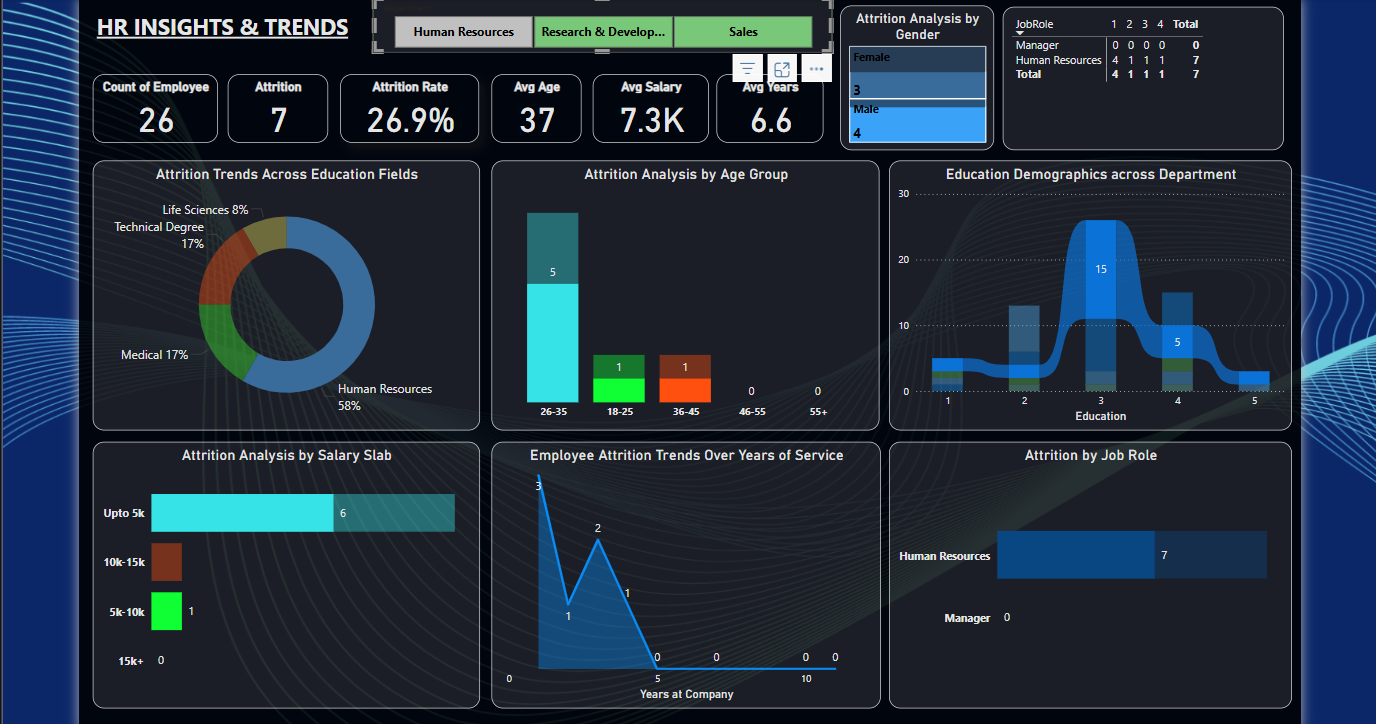

This screenshot's page, from the dashboard's own definition file:
{"tool":"powerbi","page":{"name":"Page 1","canvas":[1500,900],"ordinal":0},"visuals":[{"type":"card","title":"Count of Employee","fields":{"Values":["CountNonNull(HR_Analytics.EmpID)"]},"box":[16.8,93.6,153.7,83.8],"z":0},{"type":"card","title":"Attrition","fields":{"Values":["Sum(HR_Analytics.AttritionCount)"]},"box":[183,93.6,122.9,83.8],"z":1000},{"type":"card","title":"Attrition Rate","fields":{"Values":["HR_Analytics.AttritionRate"]},"box":[321.3,93.6,170.4,83.8],"z":2000},{"type":"card","title":"Avg Age","fields":{"Values":["Avg(HR_Analytics.Age)"]},"box":[505.7,93.6,110.4,83.8],"z":3000},{"type":"card","title":"Avg Salary","fields":{"Values":["Avg(HR_Analytics.MonthlyIncome)"]},"box":[630,93.6,142.5,83.8],"z":4000},{"type":"card","title":"Avg Years","fields":{"Values":["Avg(HR_Analytics.YearsAtCompany)"]},"box":[782.3,93.6,131.3,83.8],"z":5000},{"type":"pieChart","title":"Attrition Trends Across Education Fields","fields":{"Category":["HR_Analytics.EducationField"],"Y":["Sum(HR_Analytics.AttritionCount)"]},"box":[16.8,199.8,474.9,331.1],"z":6000},{"type":"columnChart","title":"Attrition Analysis by Age Group","fields":{"Category":["HR_Analytics.AgeGroup"],"Y":["Sum(HR_Analytics.AttritionCount)"]},"box":[505.7,199.8,476.3,331.1],"z":7000},{"type":"pivotTable","fields":{"Rows":["HR_Analytics.JobRole"],"Columns":["HR_Analytics.JobSatisfaction"],"Values":["Sum(HR_Analytics.AttritionCount)"]},"box":[1132.9,11.2,345,176],"z":8000},{"type":"barChart","title":"Attrition Analysis by Salary Slab","fields":{"Category":["HR_Analytics.SalarySlab"],"Y":["Sum(HR_Analytics.AttritionCount)"]},"box":[16.8,544.8,474.9,326.9],"z":9000},{"type":"barChart","title":"Attrition by Job Role","fields":{"Category":["HR_Analytics.JobRole"],"Y":["Sum(HR_Analytics.AttritionCount)"]},"box":[994.6,544.8,494.5,326.9],"z":10000},{"type":"areaChart","title":"Employee Attrition Trends Over Years of Service","fields":{"Category":["HR_Analytics.YearsAtCompany"],"Y":["Sum(HR_Analytics.AttritionCount)"]},"box":[505.7,544.8,477.7,326.9],"z":11000},{"type":"treemap","title":"Attrition Analysis by Gender","fields":{"Group":["HR_Analytics.Gender"],"Values":["Sum(HR_Analytics.AttritionCount)"]},"box":[934.5,9.8,188.6,177.4],"z":12000},{"type":"slicer","fields":{"Values":["HR_Analytics.Department"]},"box":[360.4,0,564.4,67.1],"z":13000},{"type":"textbox","box":[16.6,11.8,334,55.7],"z":14000},{"type":"ribbonChart","title":"Education Demographics across Department ","fields":{"Y":["CountNonNull(HR_Analytics.Department)"],"Category":["HR_Analytics.Education"],"Series":["HR_Analytics.EducationField"]},"box":[994.6,199.8,494.5,331.1],"z":15000}]}

Visuals, with their boxes in screenshot pixels (x1, y1, x2, y2):
"Count of Employee" card: BBox(85, 77, 212, 146)
"Attrition" card: BBox(222, 77, 323, 146)
"Attrition Rate" card: BBox(336, 77, 476, 146)
"Avg Age" card: BBox(488, 77, 578, 146)
"Avg Salary" card: BBox(590, 77, 707, 146)
"Avg Years" card: BBox(715, 77, 823, 146)
"Attrition Trends Across Education Fields" pieChart: BBox(85, 164, 476, 437)
"Attrition Analysis by Age Group" columnChart: BBox(488, 164, 879, 437)
pivotTable - HR_Analytics.JobRole x HR_Analytics.JobSatisfaction: BBox(1003, 9, 1287, 154)
"Attrition Analysis by Salary Slab" barChart: BBox(85, 448, 476, 717)
"Attrition by Job Role" barChart: BBox(890, 448, 1296, 717)
"Employee Attrition Trends Over Years of Service" areaChart: BBox(488, 448, 880, 717)
"Attrition Analysis by Gender" treemap: BBox(840, 8, 995, 154)
slicer - HR_Analytics.Department: BBox(368, 0, 832, 55)
textbox: BBox(85, 10, 360, 56)
"Education Demographics across Department " ribbonChart: BBox(890, 164, 1296, 437)
